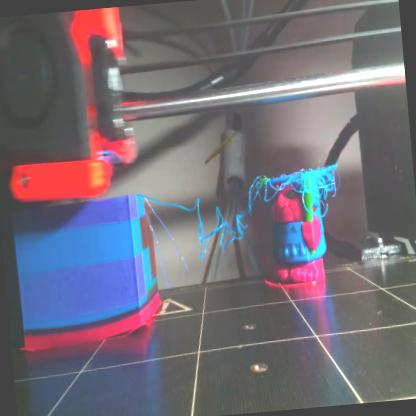fail: (248, 163, 340, 210), (186, 216, 249, 259)
